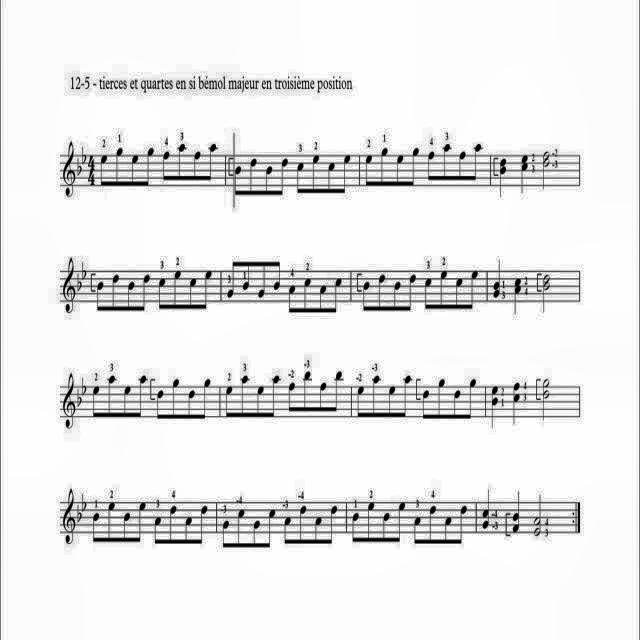Bemol: (76, 503, 82, 523), (82, 145, 86, 165), (78, 272, 82, 292), (82, 260, 86, 280), (78, 388, 82, 408), (82, 492, 86, 512), (78, 158, 82, 176), (82, 377, 86, 395)
Eighth-note: (206, 135, 218, 181), (106, 373, 118, 417), (402, 372, 414, 416), (371, 374, 382, 418), (112, 146, 124, 186), (441, 140, 453, 180), (408, 142, 419, 185), (137, 371, 147, 417), (239, 372, 249, 418), (144, 144, 154, 188), (472, 138, 482, 182), (468, 270, 479, 310), (200, 374, 210, 418), (271, 374, 281, 418), (333, 368, 343, 412), (248, 156, 258, 197), (177, 142, 187, 182), (279, 158, 289, 198), (379, 146, 389, 186), (439, 270, 449, 310), (407, 274, 417, 314), (377, 272, 387, 312), (172, 270, 182, 310), (302, 372, 312, 412), (467, 378, 477, 418), (397, 502, 407, 542), (365, 502, 375, 542), (438, 376, 447, 419), (333, 277, 343, 315), (312, 153, 321, 194), (342, 153, 351, 194), (123, 382, 133, 418), (129, 151, 139, 185), (256, 382, 266, 416), (171, 377, 179, 419), (312, 516, 324, 544), (192, 150, 202, 182), (264, 164, 274, 196), (457, 150, 467, 182), (304, 276, 312, 316), (204, 270, 212, 310), (188, 278, 198, 310), (111, 272, 119, 312), (224, 384, 234, 416), (460, 504, 468, 544), (429, 504, 437, 544), (300, 504, 308, 544), (268, 508, 276, 548), (200, 504, 208, 544), (138, 502, 146, 542), (108, 502, 116, 542), (395, 153, 405, 184), (422, 388, 432, 419), (142, 273, 150, 311), (330, 506, 338, 544), (236, 509, 244, 547), (169, 506, 177, 544), (318, 285, 328, 315), (95, 281, 105, 311), (452, 389, 462, 419), (91, 512, 101, 542), (453, 277, 462, 309), (393, 280, 402, 312), (258, 262, 266, 298), (228, 262, 236, 298), (122, 512, 132, 540), (100, 153, 108, 187), (366, 154, 374, 188), (187, 388, 196, 418), (162, 150, 170, 182), (235, 164, 243, 196), (296, 162, 304, 194), (328, 162, 336, 194), (424, 276, 432, 308), (363, 280, 371, 312), (243, 260, 251, 292), (158, 278, 166, 310), (92, 386, 100, 418), (357, 385, 365, 417), (428, 150, 436, 180), (290, 284, 298, 314), (273, 261, 281, 291), (126, 281, 134, 311), (156, 389, 164, 419), (288, 381, 296, 411), (320, 381, 328, 411), (388, 385, 396, 415), (382, 512, 390, 542), (352, 513, 360, 543), (444, 515, 452, 543), (414, 516, 422, 544), (252, 520, 260, 548), (222, 520, 230, 548), (154, 516, 162, 544), (284, 517, 292, 543), (184, 517, 192, 543)
Half-note: (532, 496, 544, 536), (542, 378, 550, 420), (542, 150, 550, 190), (542, 274, 550, 312)
Quarter-note: (510, 490, 522, 536), (511, 378, 521, 426), (481, 488, 491, 532), (513, 277, 523, 315), (493, 258, 502, 298), (490, 384, 498, 428), (520, 153, 528, 195)
Treble-clef: (62, 256, 76, 314), (61, 370, 74, 430), (64, 484, 76, 546), (64, 138, 76, 198)
